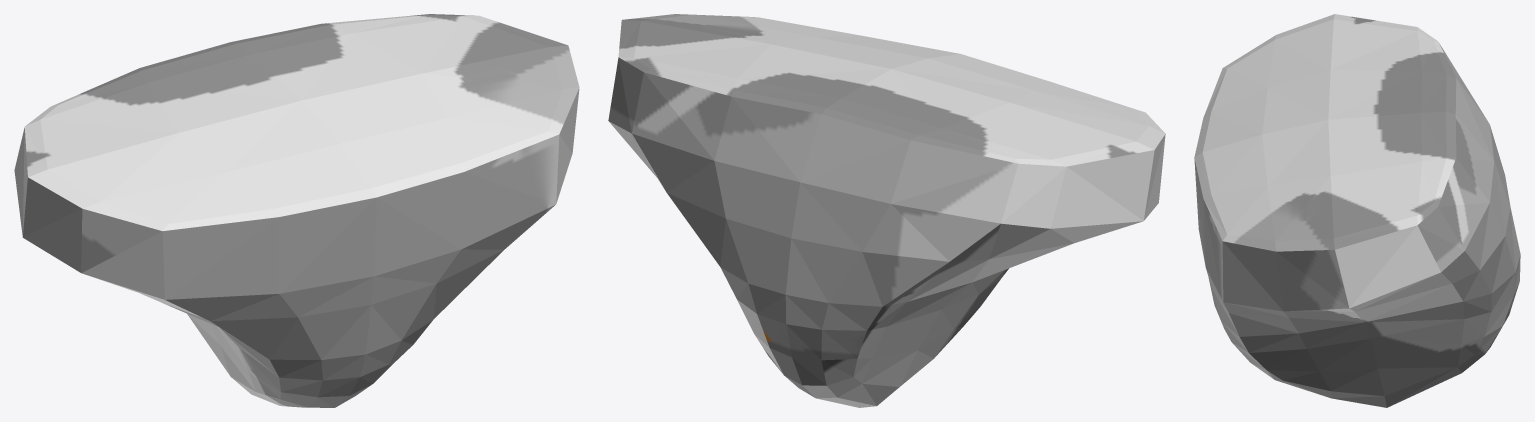
The model's file is Pelvis.obj.
3 renders of one model, left to right at view 1: azimuth 30°, elevation 25°; view 2: azimuth 150°, elevation 25°; view 3: azimuth 270°, elevation 25°, orthographic. The views are drawn at different scales.
Visible parts, largest first — view 1: Pelvis_Mesh.025; view 2: Pelvis_Mesh.025; view 3: Pelvis_Mesh.025.
Part boxes in pixels (box(x1,y1,x2,y2)): Pelvis_Mesh.025: box(14, 14, 579, 407); Pelvis_Mesh.025: box(608, 14, 1165, 407); Pelvis_Mesh.025: box(1194, 14, 1520, 407).
Size of the model in its own units: 0.2814 by 0.1634 by 0.1645.
1 material, 1 textured.
